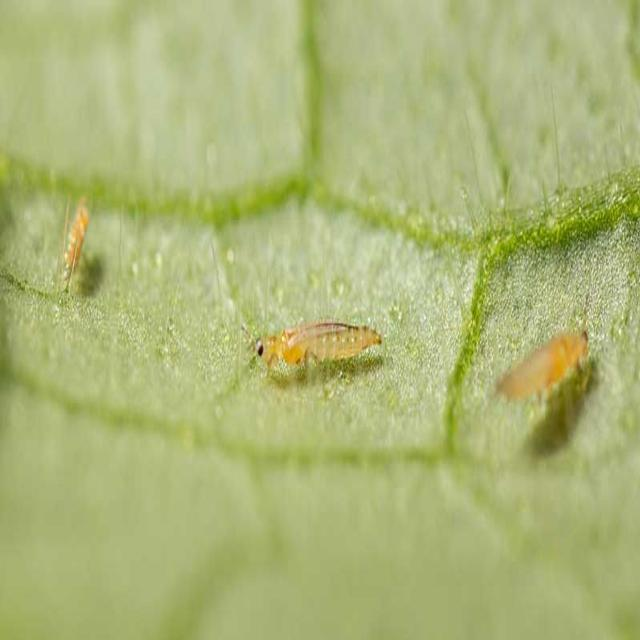Thrips: (461, 230, 608, 478), (221, 282, 400, 409), (38, 165, 123, 316)
